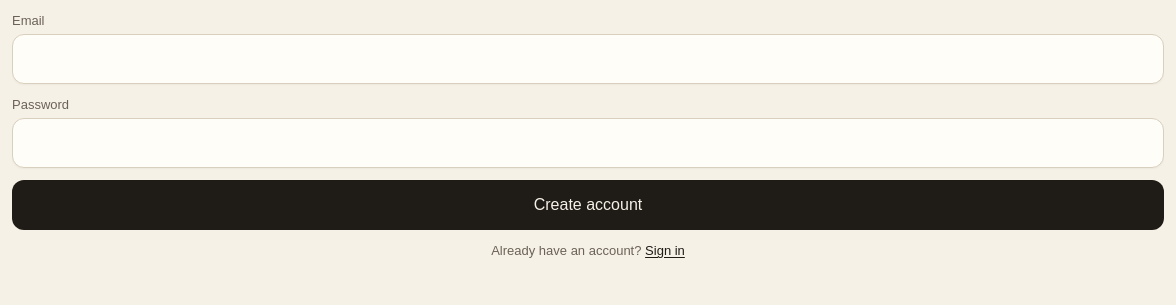
Test: a rejected signUp surfaces Supabase's own error message verbatim
In the field labelled "Email": (588, 59) [12, 34, 1164, 84], type "person@example.com"
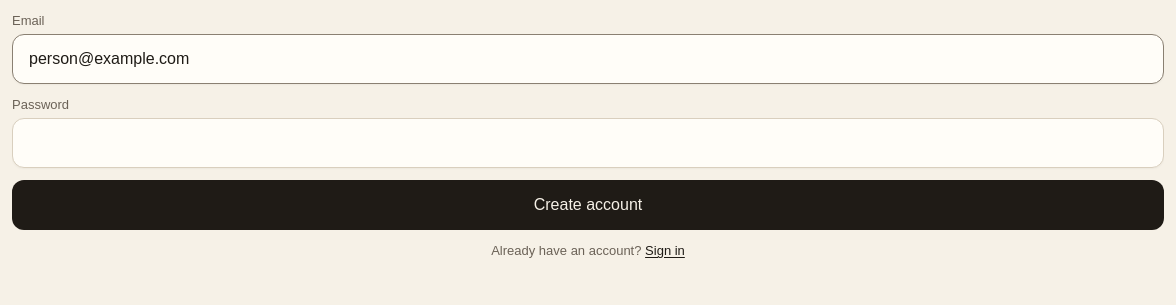
In the password field labelled "Password": (588, 143) [12, 118, 1164, 168], type "a-real-password"
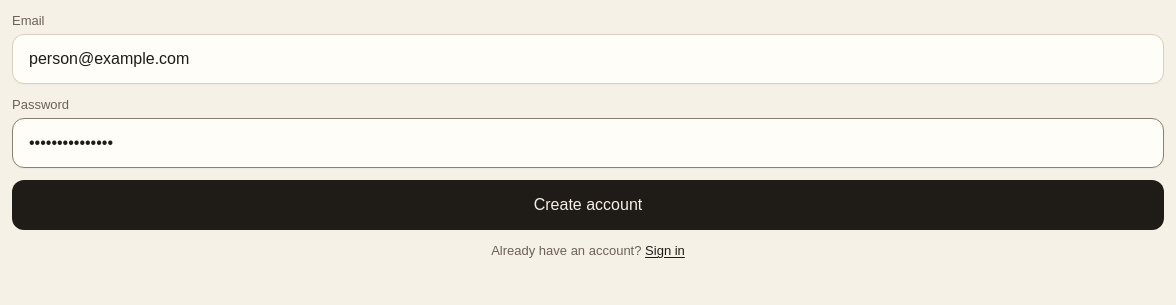
Click the button "Create account": click(588, 205) [12, 180, 1164, 230]
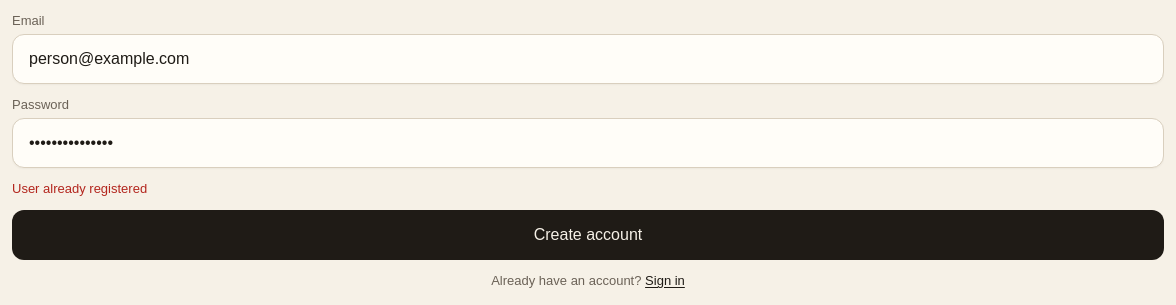
Expected: the message reads "User already registered", [12, 181, 147, 196]
